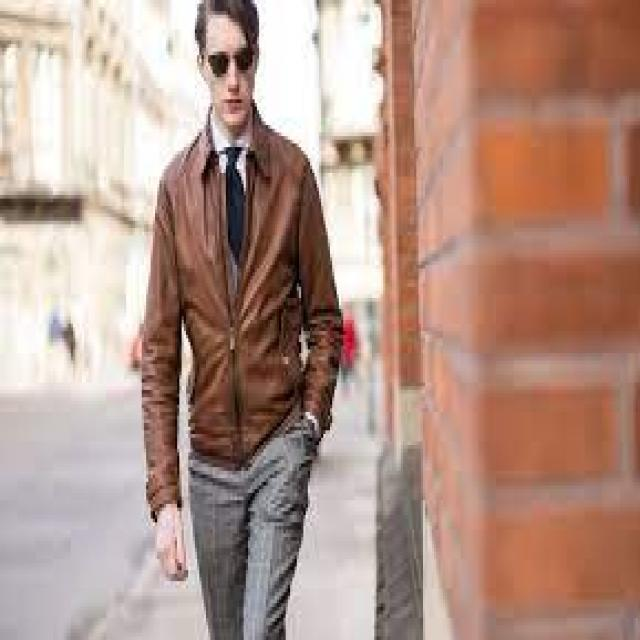Jacket: (133, 117, 358, 532)
